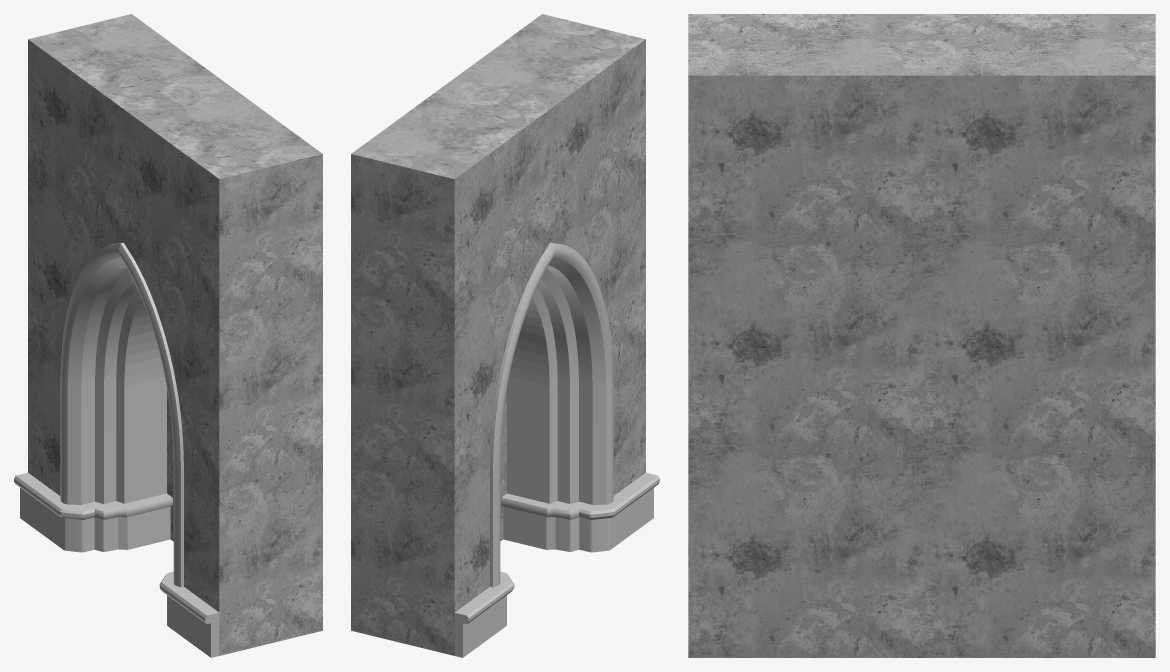
The model's file is SM_HallwayWall_02a.fbx.
The picture shows the model from 3 angles, left to right: view 1: azimuth 30°, elevation 25°; view 2: azimuth 150°, elevation 25°; view 3: azimuth 270°, elevation 25°; orthographic projection. The views are drawn at different scales.
Parts seen in each view (by area): view 1: SM_HallwayWall_02a_LOD0; view 2: SM_HallwayWall_02a_LOD0; view 3: SM_HallwayWall_02a_LOD0.
Part boxes in pixels (x1,y1,x2,y2): SM_HallwayWall_02a_LOD0: (14,14,322,657); SM_HallwayWall_02a_LOD0: (351,14,659,657); SM_HallwayWall_02a_LOD0: (688,14,1155,657).
Bounding box in the file's own units: 284 × 800 × 1100.
